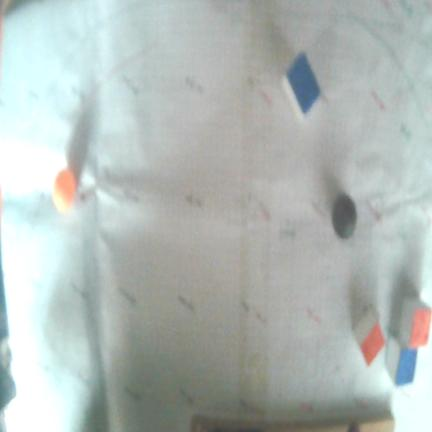circle_blue: (332, 193, 357, 239)
circle_orange: (53, 167, 78, 211)
rectangle_blue: (286, 49, 319, 116)
rectangle_orange: (359, 324, 386, 366)
square_blue: (395, 346, 418, 386)
square_orange: (410, 308, 432, 344)
